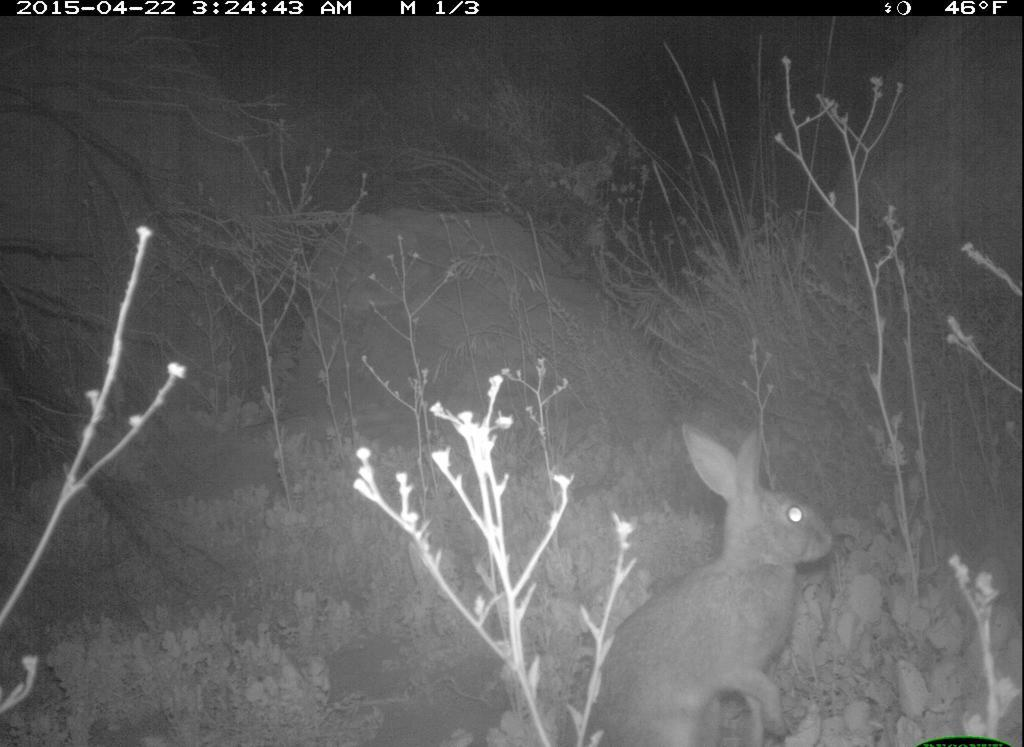rabbit: (589, 418, 838, 747)
